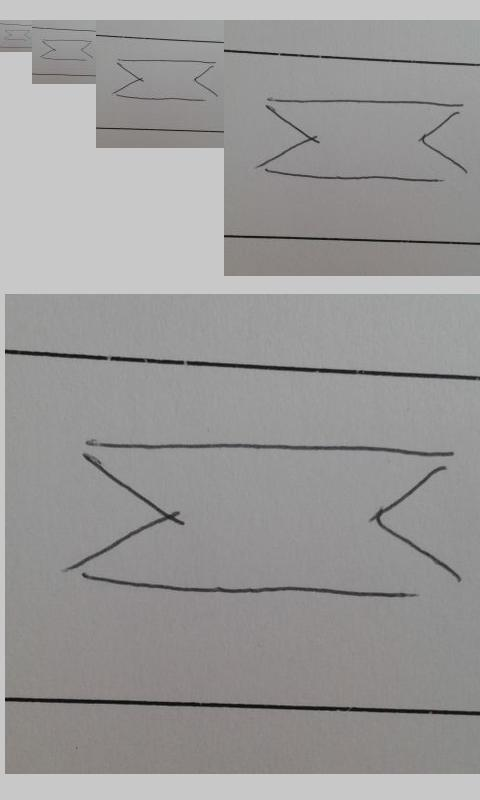edit_text: (67, 440, 462, 603), (258, 96, 470, 184), (112, 58, 218, 102), (40, 39, 94, 62), (5, 29, 31, 41)
